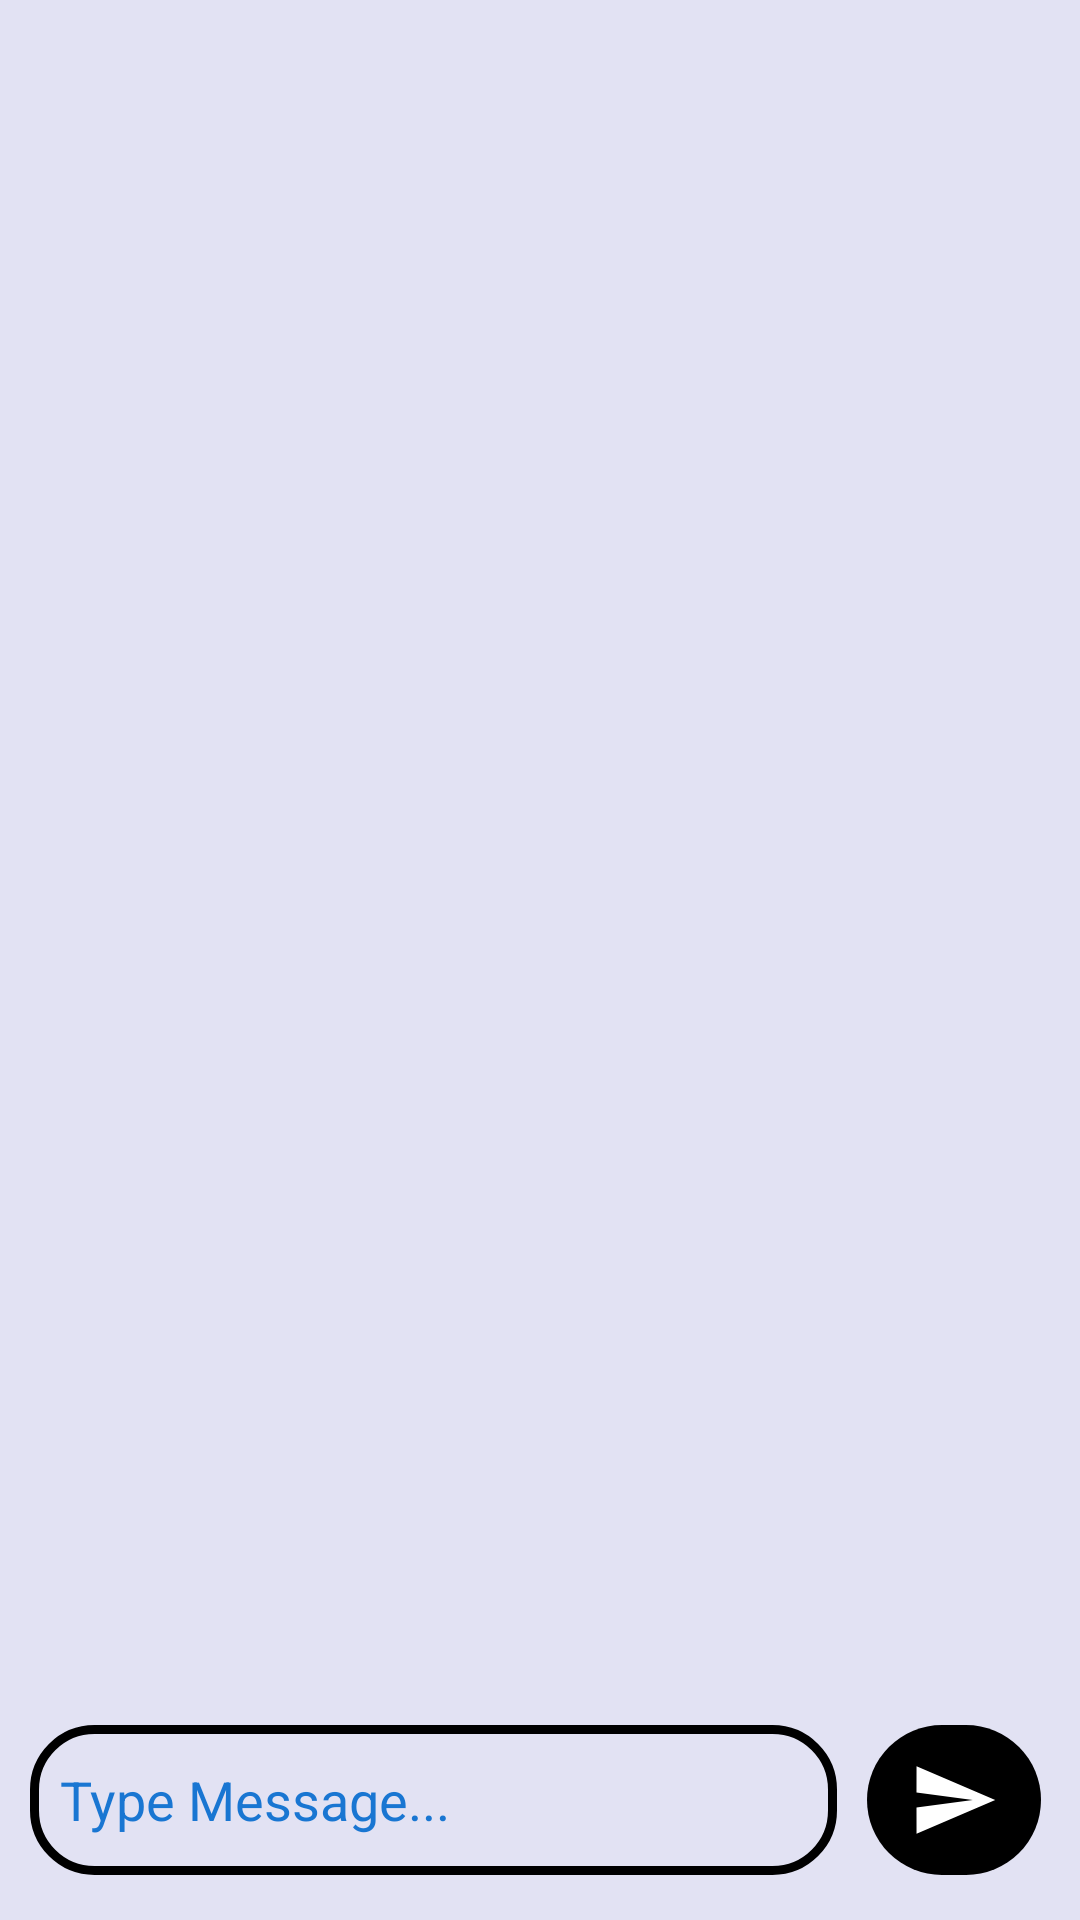

Point at icon controls on the screen. Image size 1080*1920, points as point (x, y).
Send Message: point (954, 1800)
